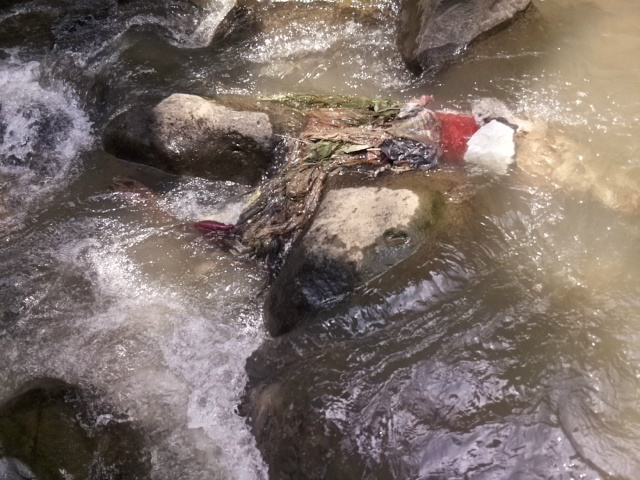Sampah_Plastik: (223, 85, 521, 267)
